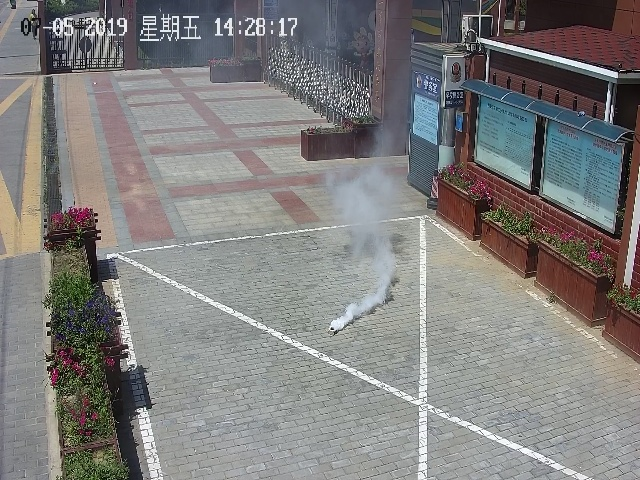yanwu: (332, 167, 407, 331)
